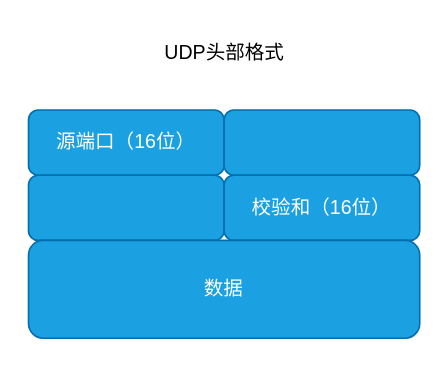
The diagram is 448 pixels wide and 367 high, and some of its shapes have lost their labels. The centre of each missing label's shape, as x and y in pixels:
包长度（16位）: point (125, 207)
目标端口号（16位）: point (321, 141)
